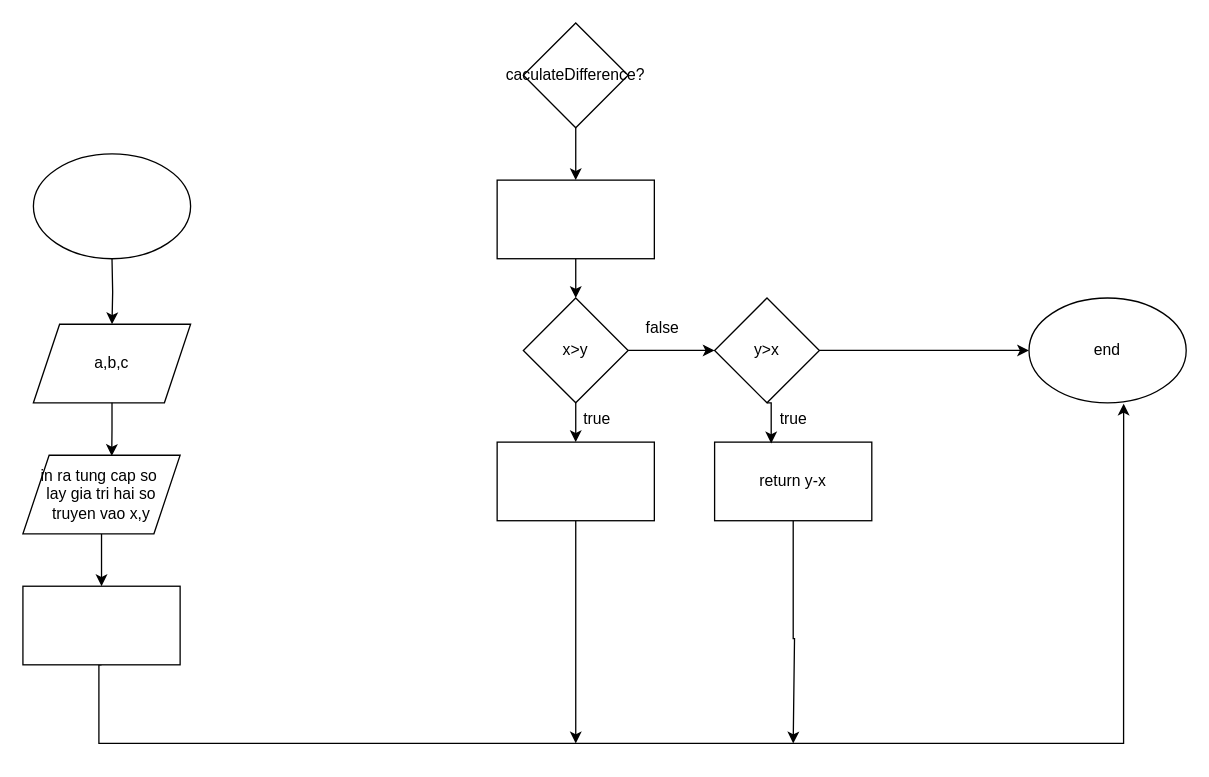
The diagram is 1209 pixels wide and 777 high, and some of its shapes have lost their labels. The centre of each missing label's shape, as x and y in pixels:
"caculateDifference ts x,y" belongs at point (575, 219).
"return 0" belongs at point (101, 625).
"return x-y" belongs at point (575, 481).
"start" belongs at point (111, 206).
